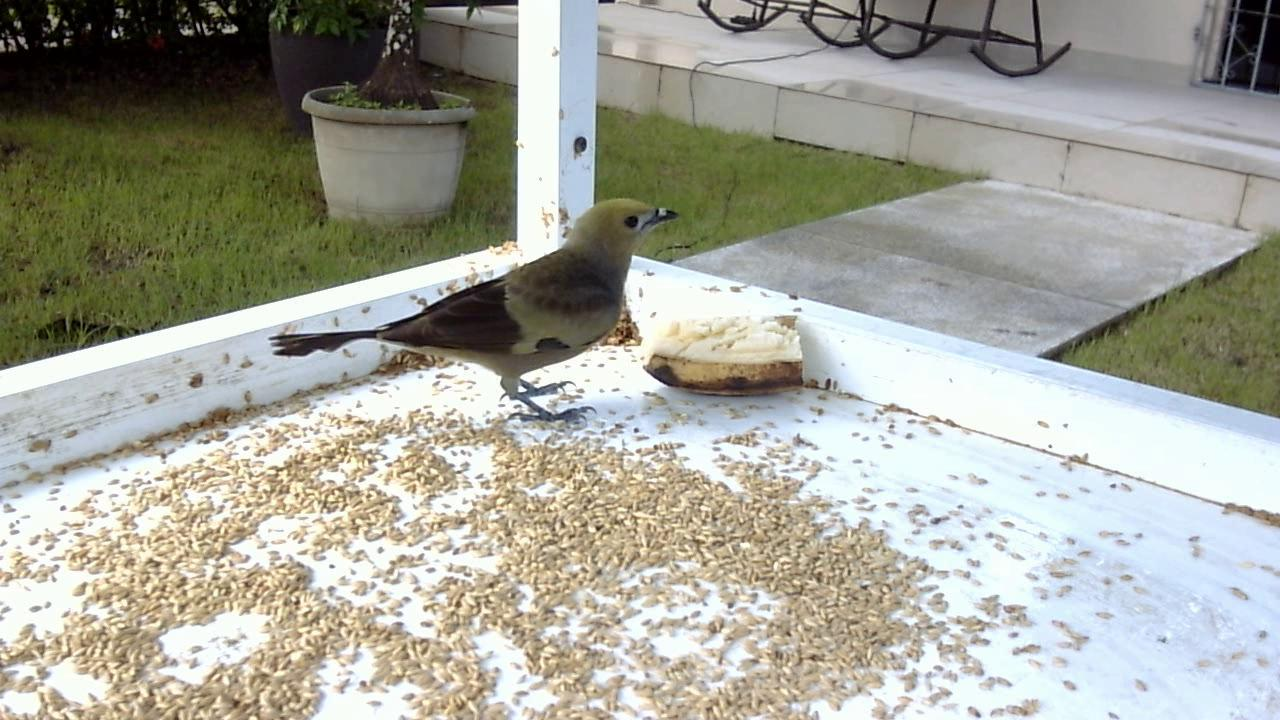sanhaco_do_coqueiro: (267, 200, 684, 434)
